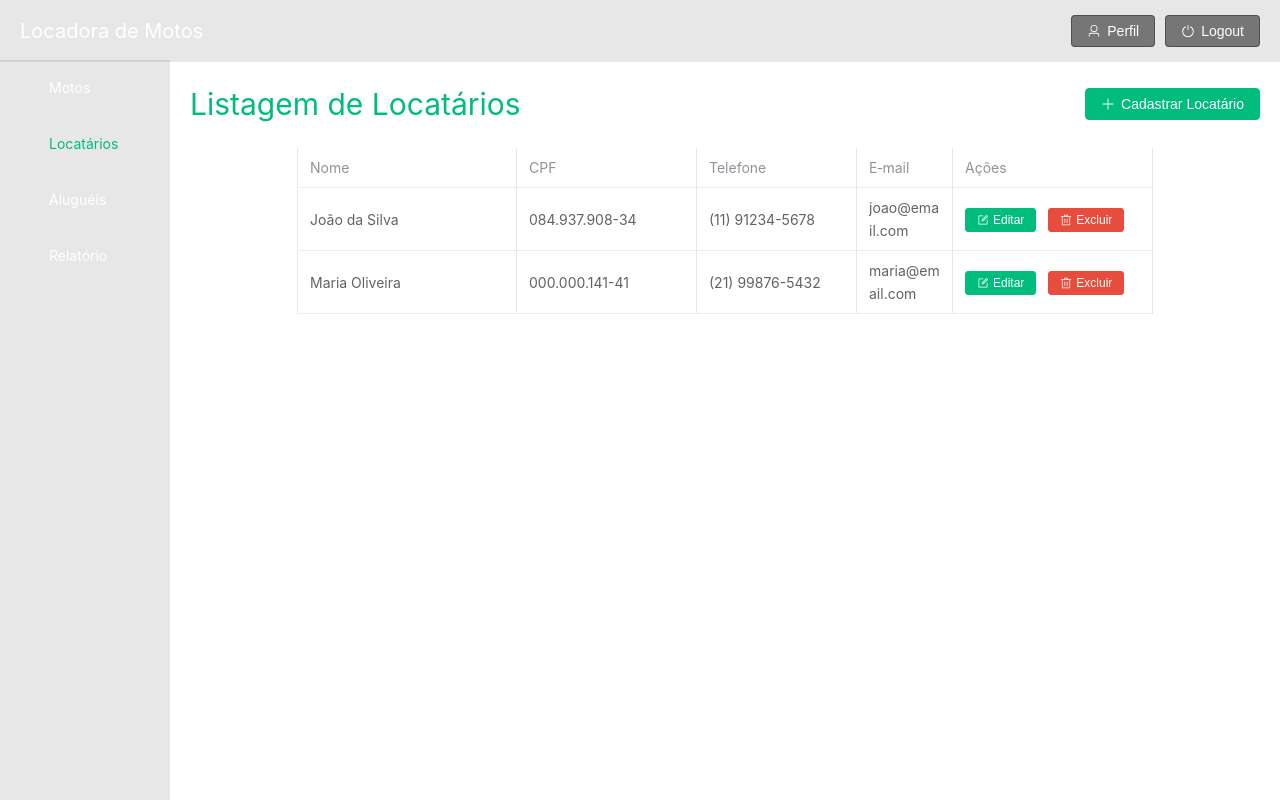
Tela de Listagem de Locatários › deve editar um locatário
The image size is (1280, 800).
Click the button "Editar" in the row of "João da Silva".
click(1001, 220)  # box [965,208,1036,232]
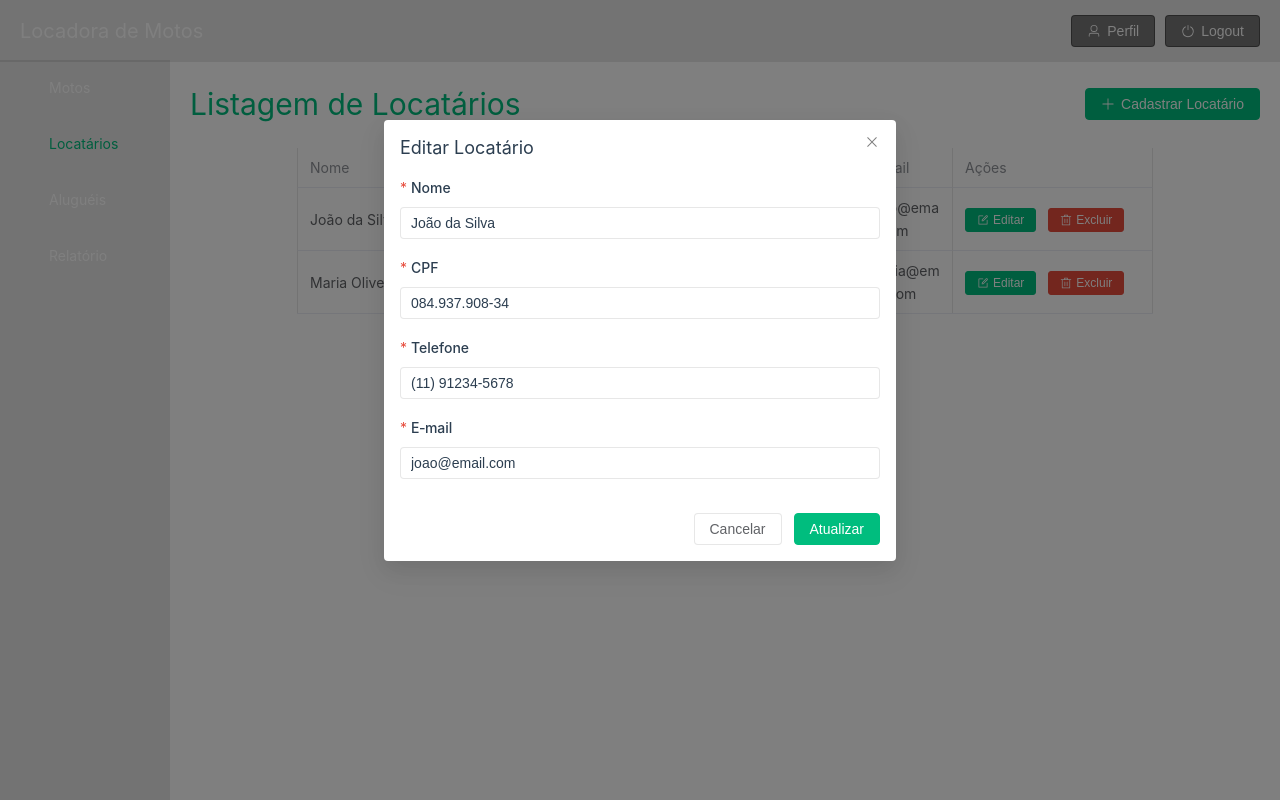
Replace the text in the field with placeholder "Ex: João da Silva" with "João da Silva Editado" at (640, 223), box [411,208,869,238]
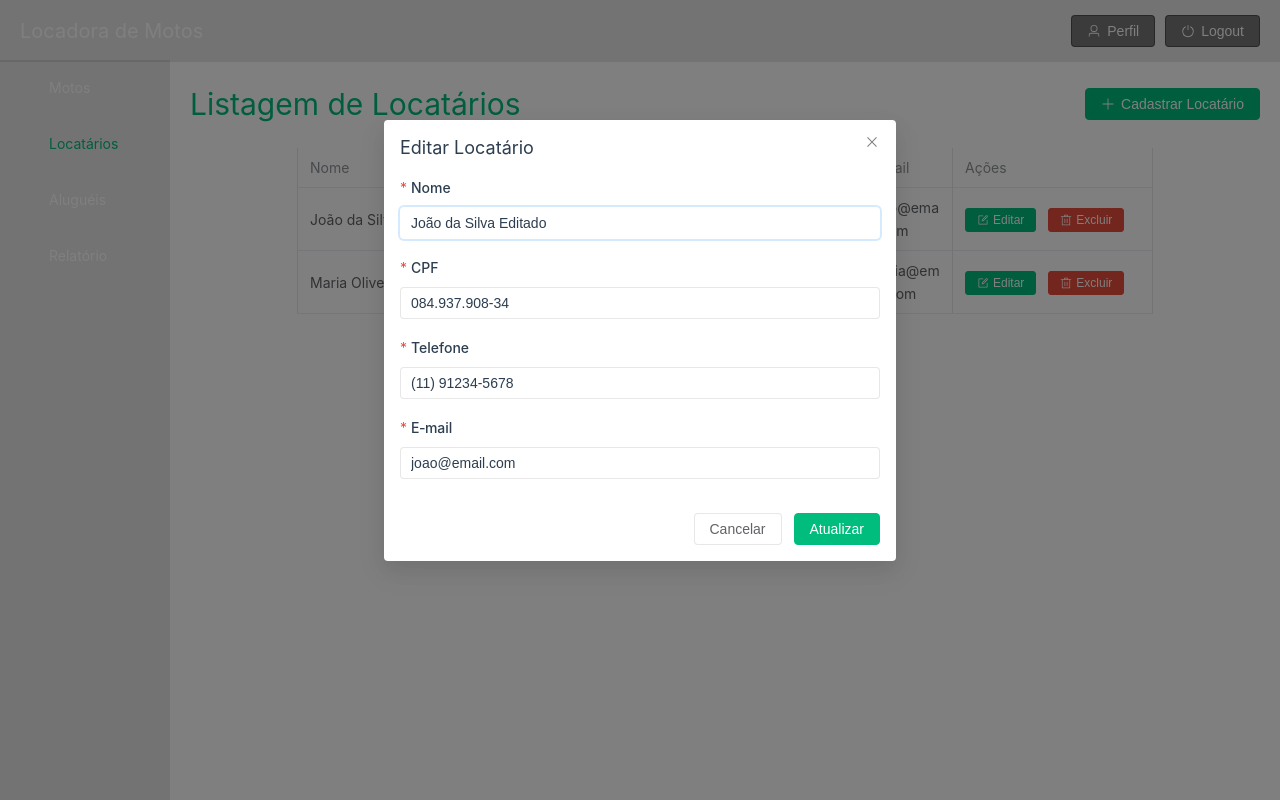
Click the button "Atualizar".
click(838, 529)  # box [794,513,881,545]
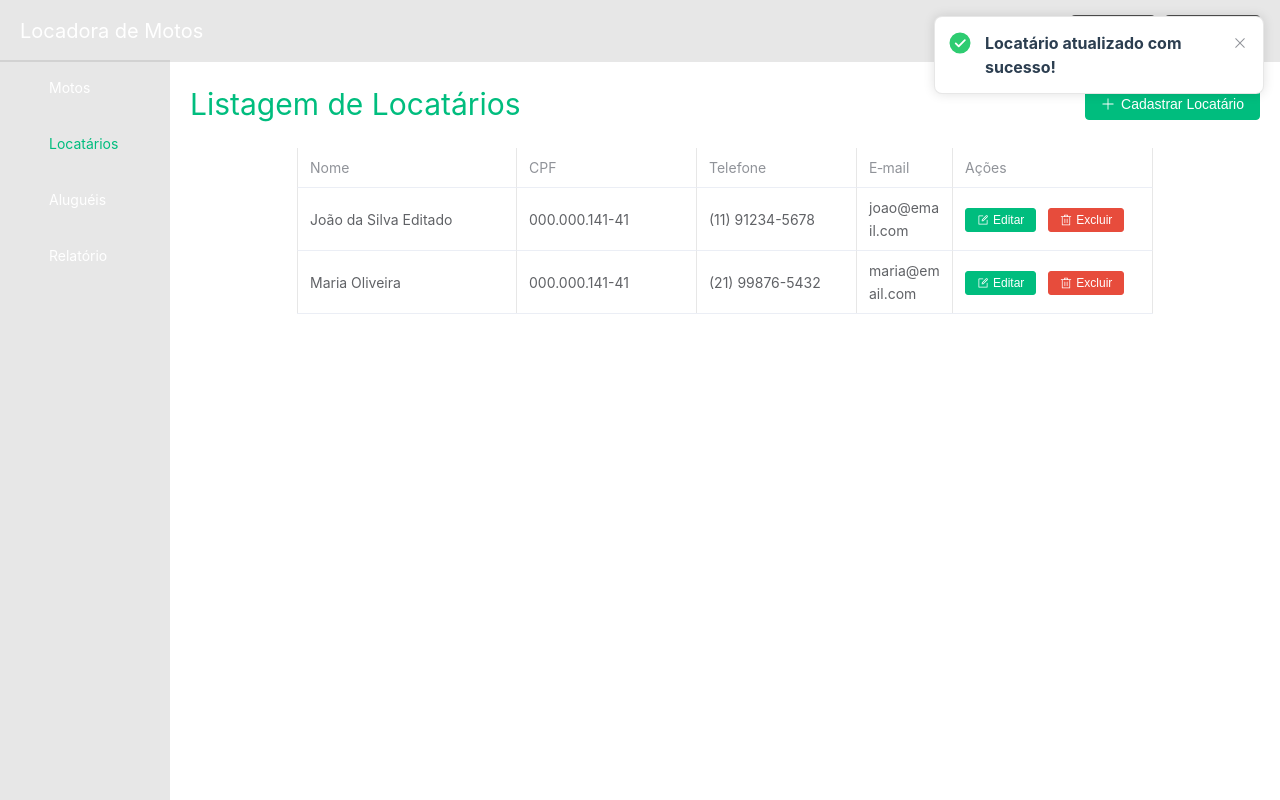
Result: the heading "Locatário atualizado com sucesso!" is shown at [985,33,1182,77]
